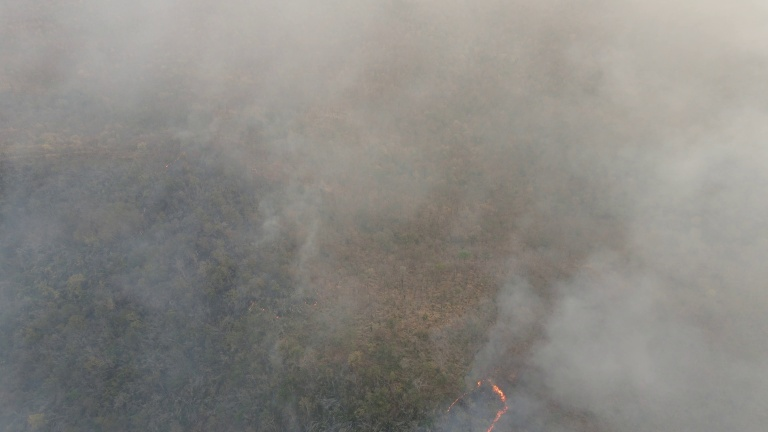fire: (445, 377, 522, 432)
smoke: (448, 1, 768, 432), (1, 1, 444, 205)
